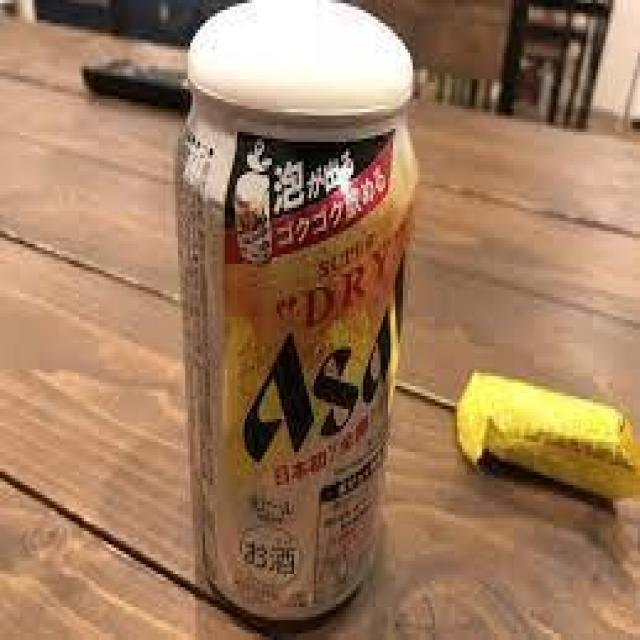beer-can: (178, 3, 422, 637)
